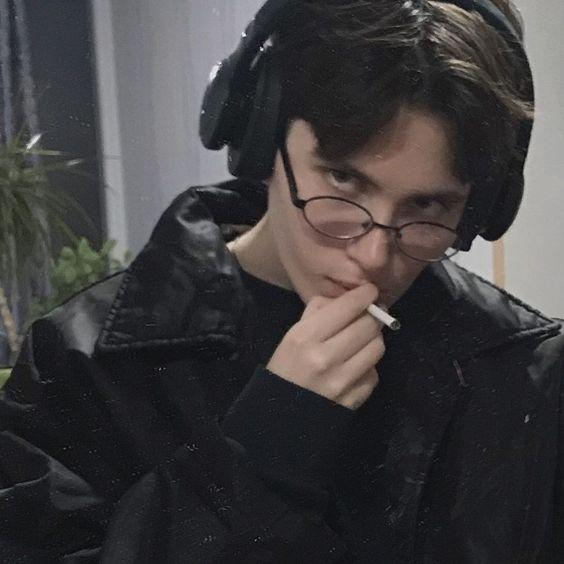cigarette: (365, 303, 402, 331)
